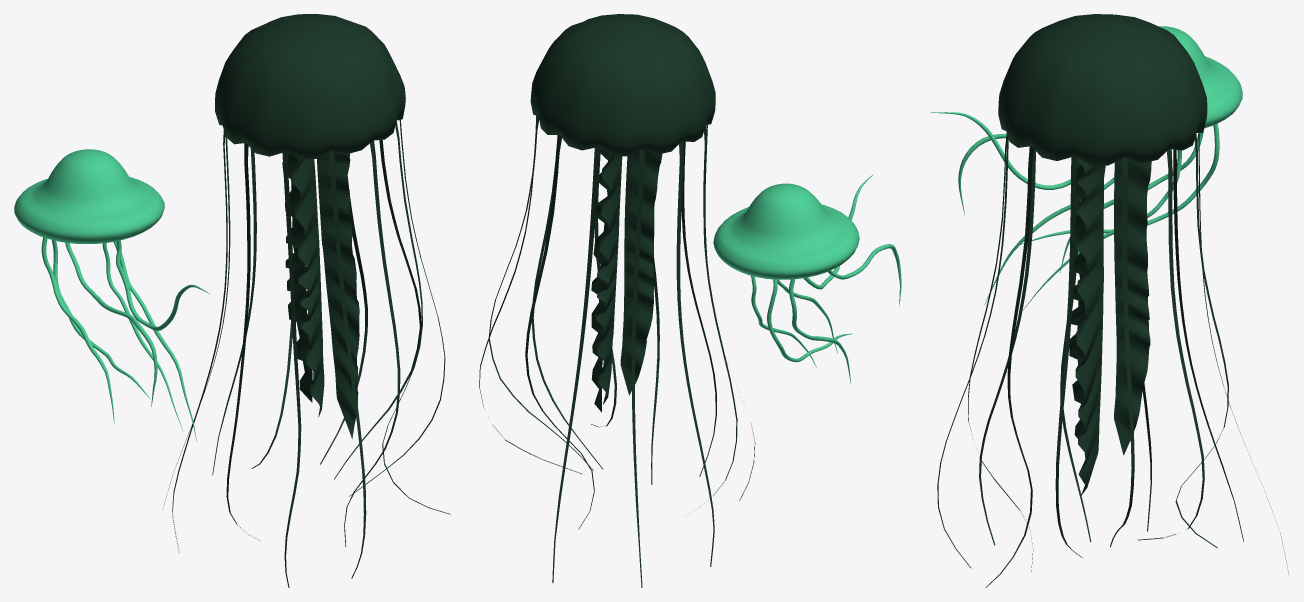
Rendered from Medusas.obj.
The picture shows the model from 3 angles, left to right: view 1: azimuth 30°, elevation 25°; view 2: azimuth 150°, elevation 25°; view 3: azimuth 270°, elevation 25°; orthographic projection. The views are drawn at different scales.
Parts seen in each view (by area): view 1: jellyfish; view 2: jellyfish; view 3: jellyfish.
Boxes of the visible parts, x1=… form: jellyfish: x1=14, y1=14, x2=450, y2=587; jellyfish: x1=479, y1=14, x2=901, y2=587; jellyfish: x1=930, y1=14, x2=1288, y2=587.
Size of the model in its own units: 58.89 by 75.46 by 43.54.
